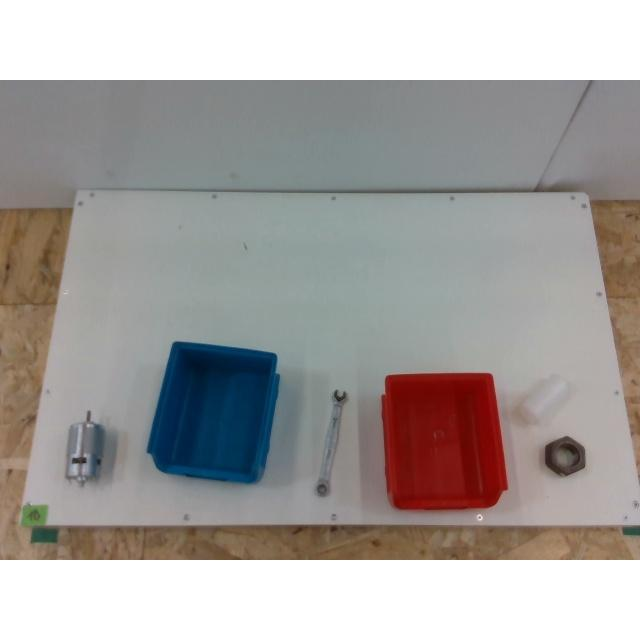M30: (545, 436, 585, 476)
Motor2: (66, 410, 102, 486)
Spacer: (517, 373, 569, 422)
Wrench: (315, 388, 347, 496)
container_box_blue: (147, 342, 279, 482)
container_box_red: (382, 373, 506, 509)
